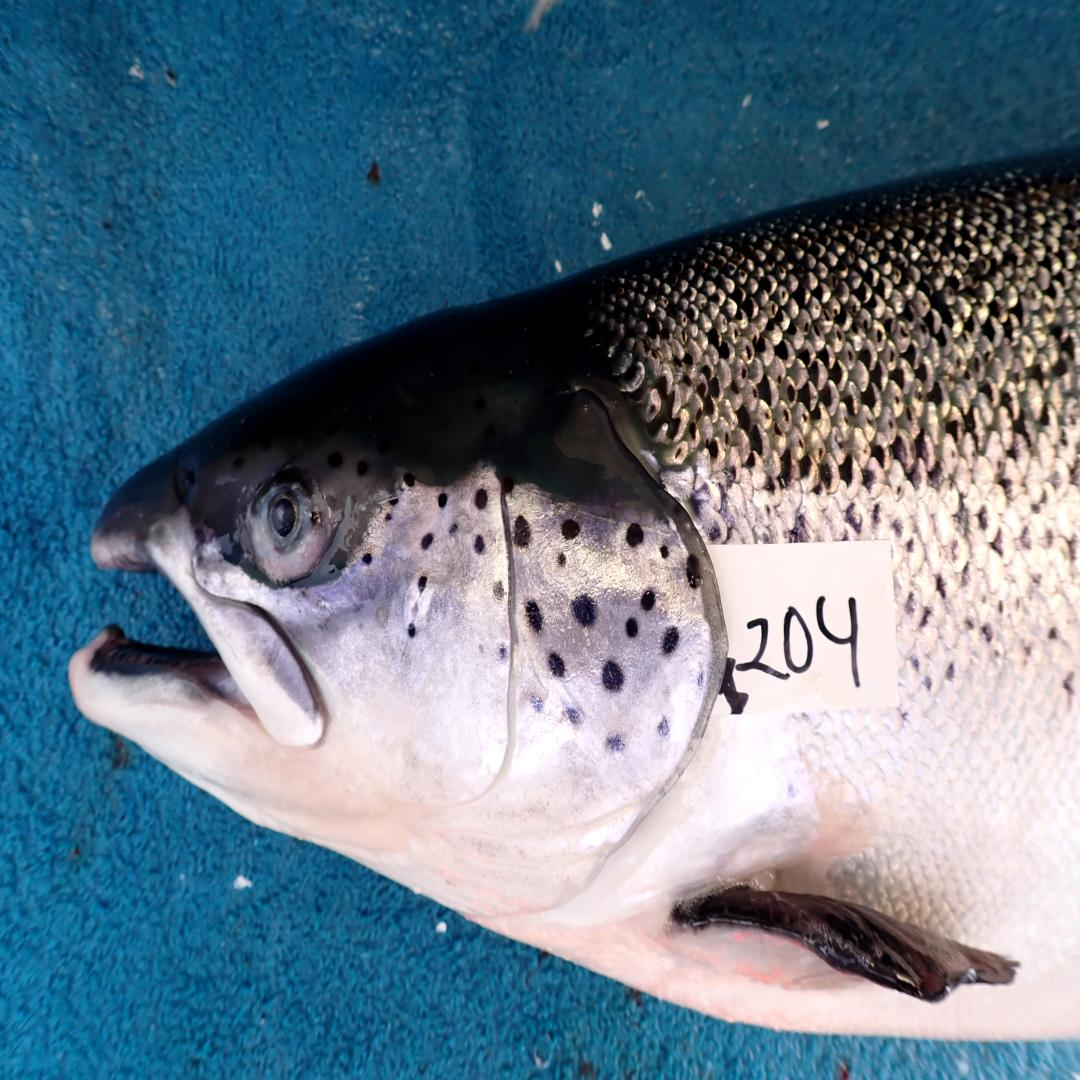roi: (320, 463, 724, 928)
